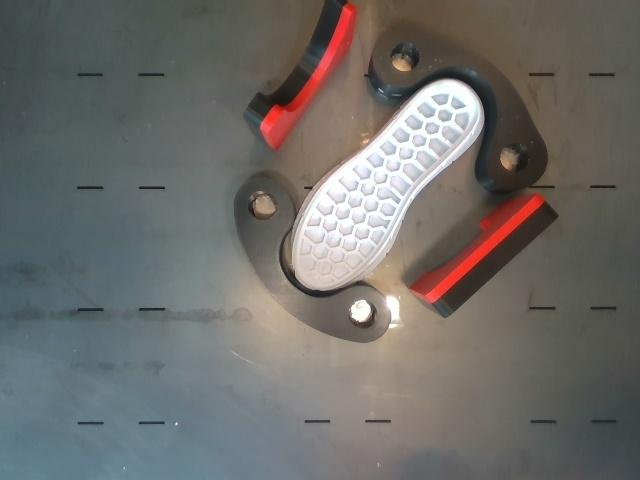shoes: (293, 83, 479, 289)
